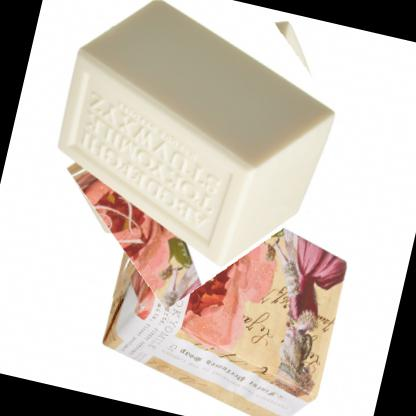soap: (1, 0, 379, 316)
